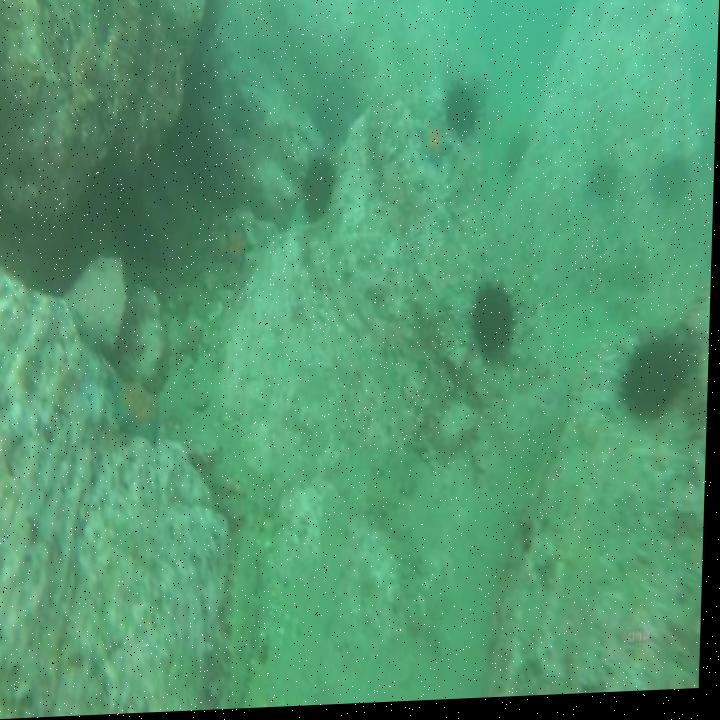echinus: (629, 338, 690, 424), (475, 293, 517, 369), (444, 86, 479, 142), (505, 129, 534, 187), (304, 163, 334, 219), (653, 163, 688, 210), (590, 165, 615, 200)
holothurian: (227, 536, 265, 710)
starfish: (109, 376, 162, 442), (417, 121, 451, 172), (225, 226, 251, 269)
